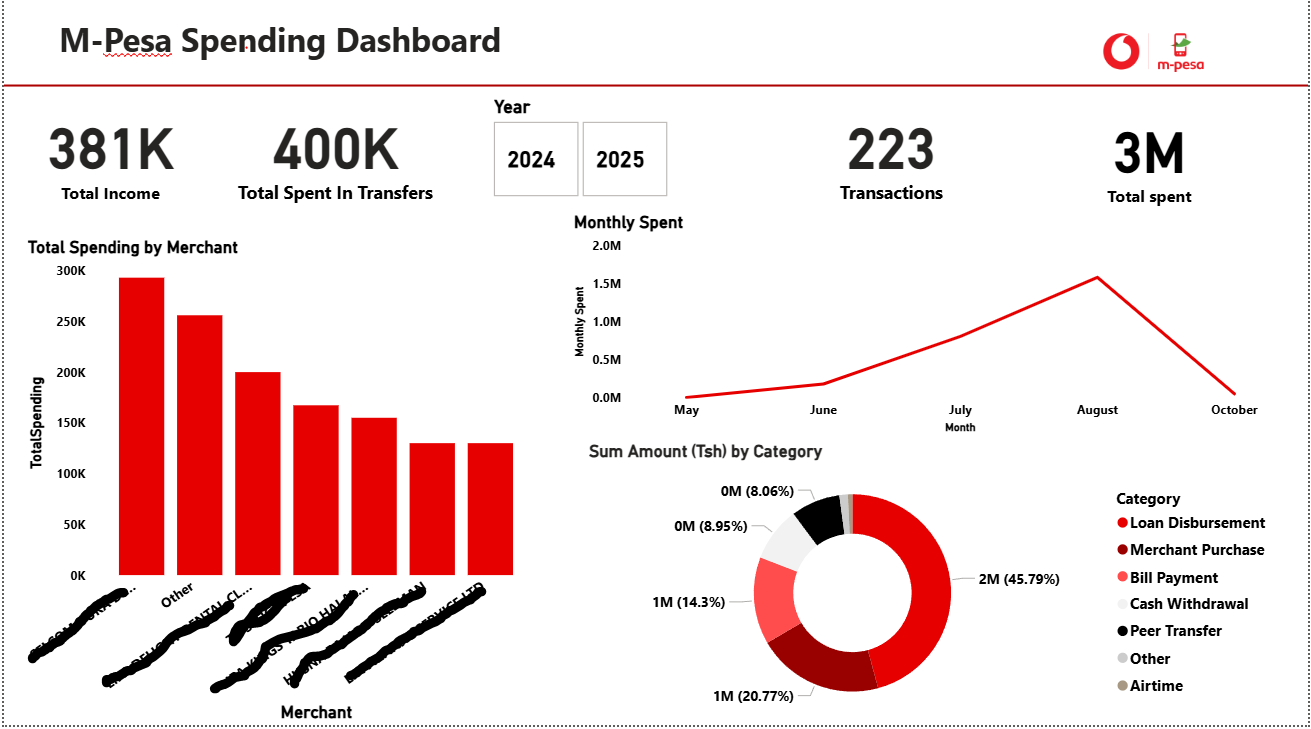

The dashboard page shown, as its layout file describes it:
{"tool":"powerbi","page":{"name":"Page 1","canvas":[1280,720],"ordinal":0},"visuals":[{"type":"donutChart","fields":{"Category":["All Table.Category"],"Y":["Sum(All Table.Transaction Amount(Tsh))"]},"box":[569.5,440.5,683.4,279.9],"z":0},{"type":"lineChart","title":"Monthly Spent","fields":{"Y":["All Table.Monthly Spent"],"Category":["All Table.Transaction Date.Variation.Date Hierarchy.Month","All Table.Transaction Date.Variation.Date Hierarchy.Day"]},"box":[554.4,215.4,712.2,222.3],"z":1000},{"type":"card","fields":{"Values":["All Table.Total Income"]},"box":[17.8,101.5,172.9,112.5],"z":2000},{"type":"card","fields":{"Values":["All Table.Total Transfers"]},"box":[214.1,101.5,223.7,112.5],"z":3000},{"type":"card","fields":{"Values":["All Table.Total spent"]},"box":[989,106.7,271.2,109.2],"z":4000},{"type":"card","fields":{"Values":["All Table.TransactionCount"]},"box":[744.8,101.8,252.8,112.9],"z":5000},{"type":"advancedSlicerVisual","fields":{"Values":["All Table.Transaction Date.Variation.Date Hierarchy.Year"]},"box":[476.1,101.8,268.7,104.3],"z":6000},{"type":"textbox","box":[49.1,19.6,591.4,62.6],"z":6001},{"type":"clusteredColumnChart","title":"Total Spending by Merchant","fields":{"Category":["All Table.Merchant"],"Y":["All Table.TotalSpending"]},"box":[17.8,240.1,510.5,480.3],"z":6002},{"type":"image","box":[997.6,0,262.1,119.4],"z":6003},{"type":"shape","box":[0,82.3,1280.3,19.2],"z":6004}]}

Visuals, with their boxes in screenshot pixels (x1, y1, x2, y2), scaled from the page's 1280x720 canvas onto the 1311x729 screenshot:
donutChart - All Table.Category x Sum(All Table.Transaction Amount(Tsh)): 583, 446, 1283, 728
"Monthly Spent" lineChart: 568, 218, 1297, 443
card - All Table.Total Income: 18, 103, 195, 217
card - All Table.Total Transfers: 219, 103, 448, 217
card - All Table.Total spent: 1013, 108, 1291, 219
card - All Table.TransactionCount: 763, 103, 1022, 217
advancedSlicerVisual - All Table.Transaction Date.Variation.Date Hierarchy.Year: 488, 103, 763, 209
textbox: 50, 20, 656, 83
"Total Spending by Merchant" clusteredColumnChart: 18, 243, 541, 728
image: 1022, 0, 1290, 121
shape: 0, 83, 1310, 103
